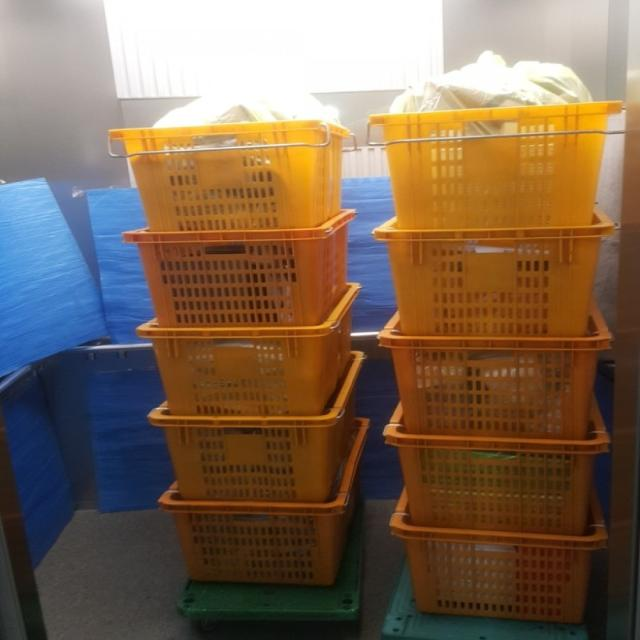basket: (155, 419, 376, 593), (369, 101, 625, 231), (135, 284, 366, 426), (375, 213, 618, 340), (379, 309, 612, 440), (384, 404, 611, 537), (388, 491, 610, 625), (109, 118, 352, 233), (123, 209, 356, 328), (147, 407, 353, 503)
